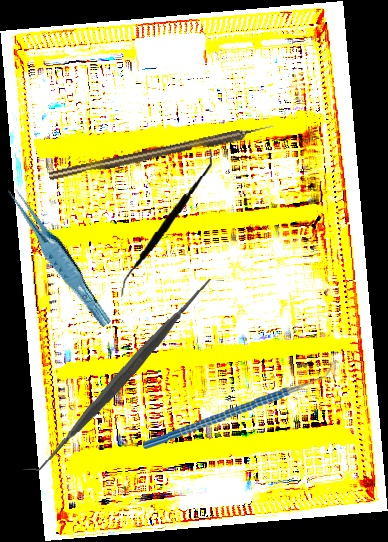Chopper: (140, 359, 339, 450)
Hook Surgical: (47, 122, 276, 182)
Spatula Surgical: (23, 273, 224, 477), (120, 144, 213, 301)
Tissue Forceps: (5, 178, 113, 335)
